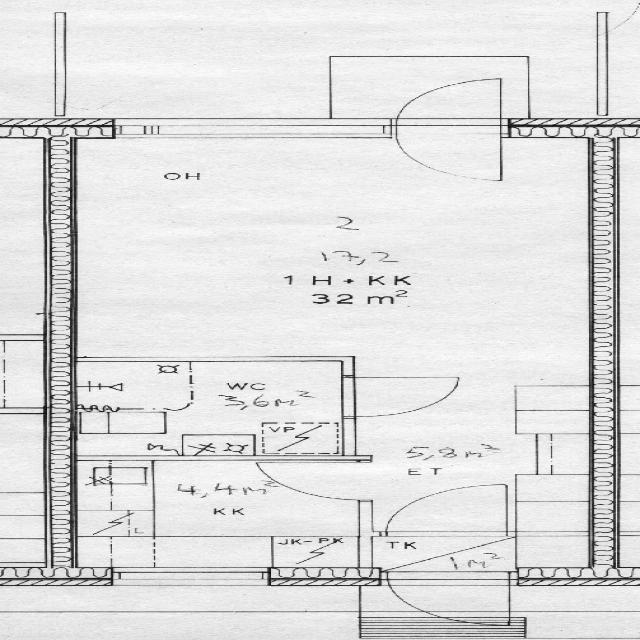door: (387, 567, 510, 636), (386, 482, 506, 536), (397, 76, 500, 138), (397, 119, 500, 180), (341, 378, 450, 416), (267, 462, 372, 500)
